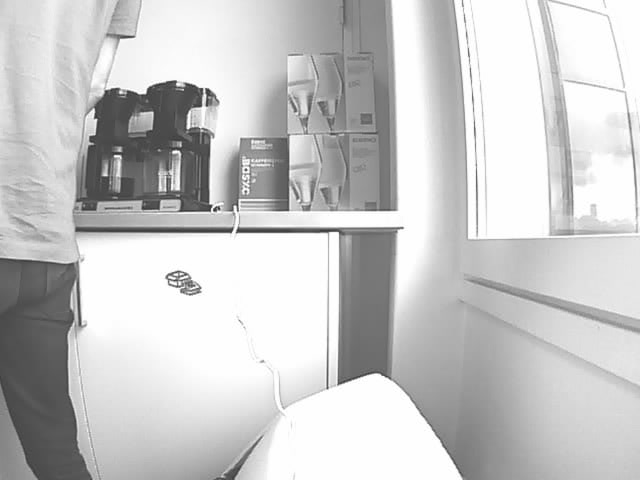empty coffee: (144, 139, 198, 197)
not empty coffee: (86, 143, 138, 198)
